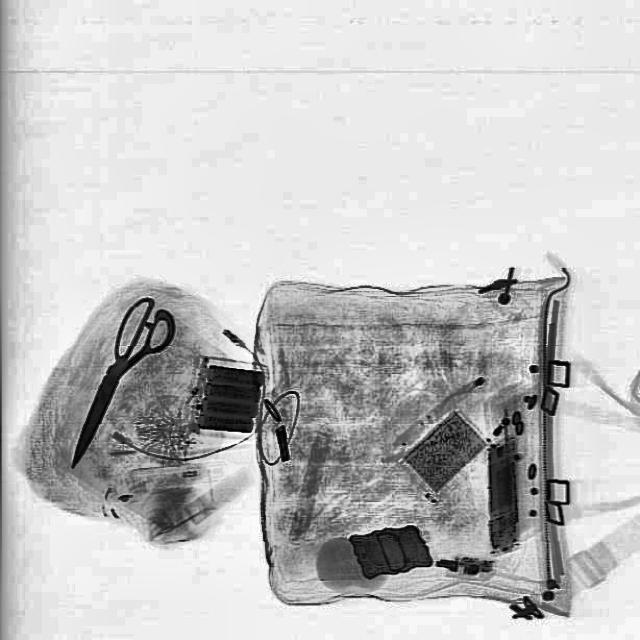Scissors: (45, 291, 185, 477)
